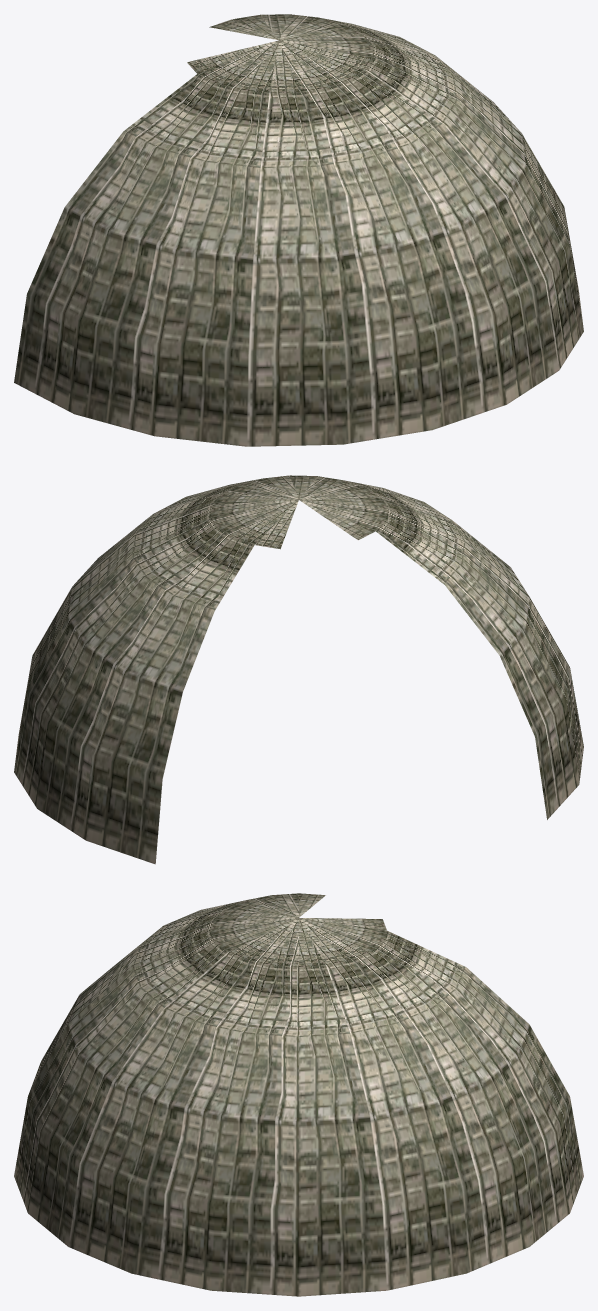
File: M2Zone2_Roundel_A.glb
3 renders of one model, top to bottom at view 1: azimuth 30°, elevation 25°; view 2: azimuth 150°, elevation 25°; view 3: azimuth 270°, elevation 25°, orthographic. The views are drawn at different scales.
Visible parts, largest first — view 1: M2ZONE2_ROUNDEL_A; view 2: M2ZONE2_ROUNDEL_A; view 3: M2ZONE2_ROUNDEL_A.
Boxes of the visible parts, left/top/right/bottom form: M2ZONE2_ROUNDEL_A: left=14, top=14, right=583, bottom=446; M2ZONE2_ROUNDEL_A: left=14, top=475, right=583, bottom=864; M2ZONE2_ROUNDEL_A: left=14, top=893, right=583, bottom=1296.
Bounding box in the file's own units: 27.64 × 13.82 × 27.64.
Materials: 1 (1 with a texture image).
